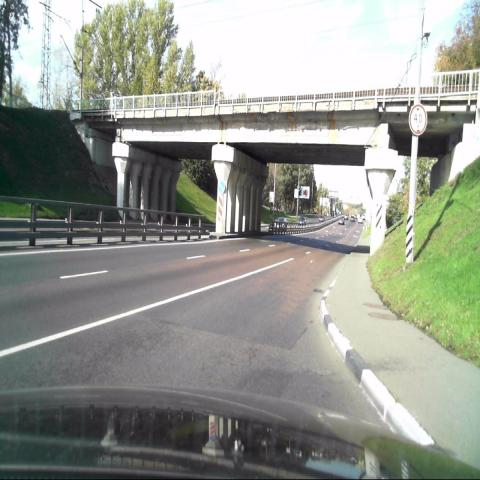3_13: (409, 101, 429, 136)
